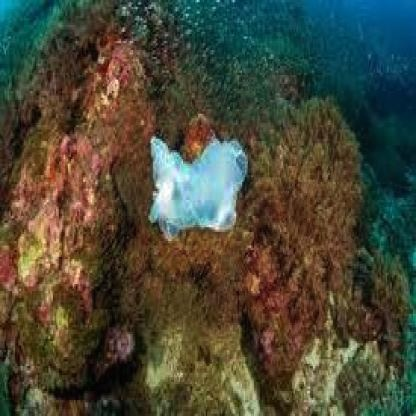pbag: (145, 132, 248, 243)
